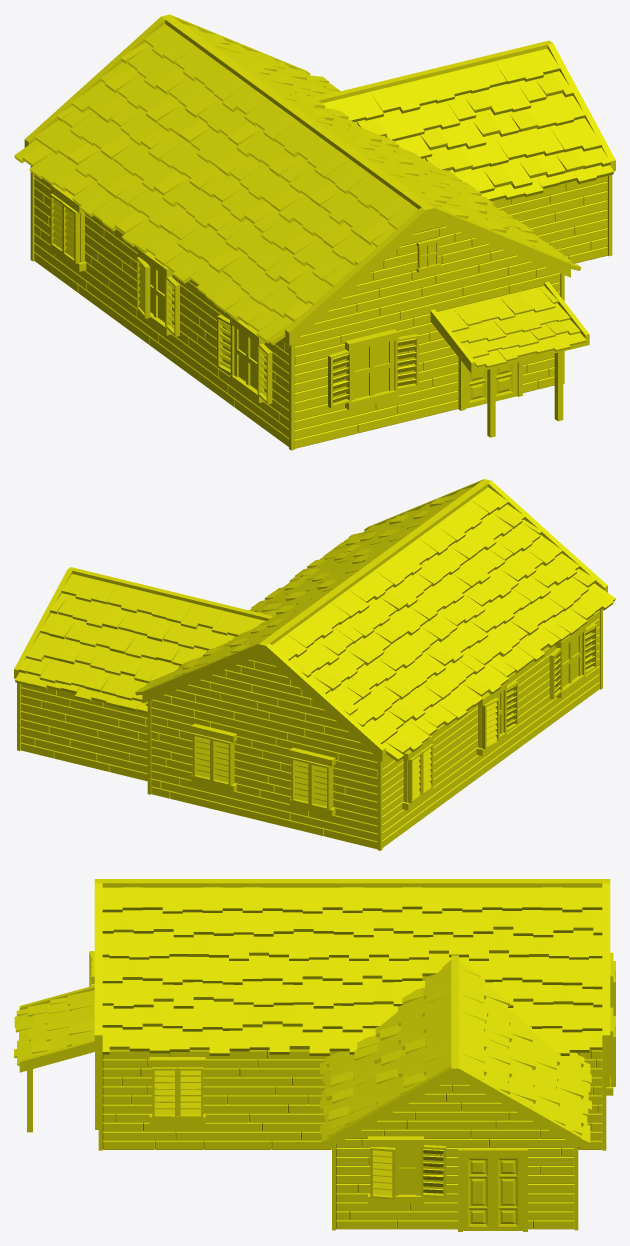
File: Village_House_03_1MAT_model.fbx
The picture shows the model from 3 angles, top to bottom: view 1: azimuth 30°, elevation 25°; view 2: azimuth 150°, elevation 25°; view 3: azimuth 270°, elevation 25°; orthographic projection. The views are drawn at different scales.
Visible parts, largest first — view 1: House_03; view 2: House_03; view 3: House_03.
Part boxes in pixels (box(x1,y1,x2,y2)): House_03: box(14, 14, 615, 450); House_03: box(14, 479, 615, 850); House_03: box(14, 879, 615, 1231).
Size of the model in its own units: 1336 by 564 by 1506.
